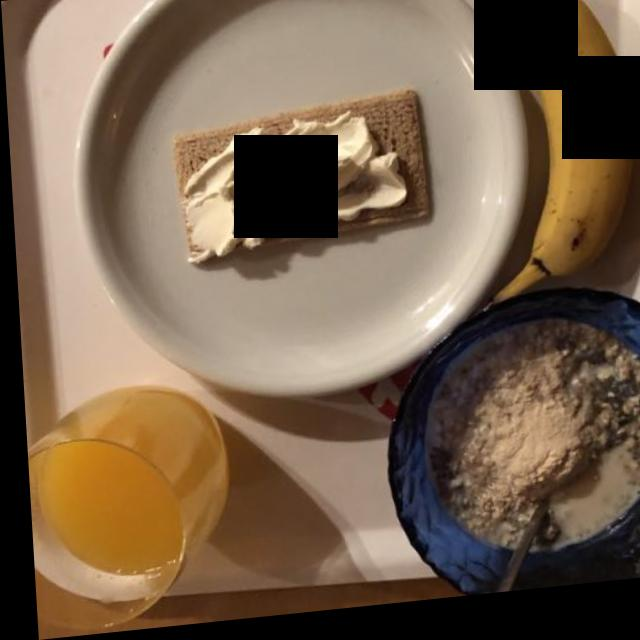banana: (493, 0, 640, 292)
cream-cheese: (197, 123, 409, 253)
juice-orange: (29, 394, 216, 611)
